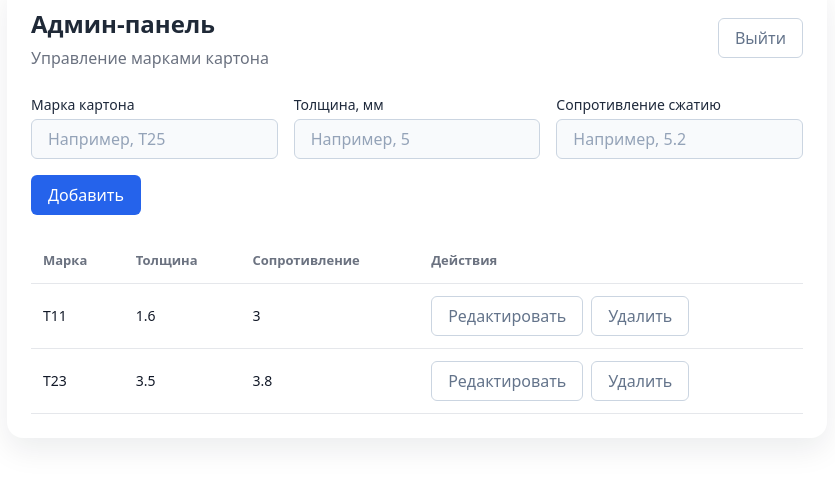
Test case: AdminPanel › показывает ошибку если название пустое
The image size is (835, 502).
Type "5" into the number field with test id "input-field" showing "Толщина, мм" at (417, 139), box [294,119,540,159]
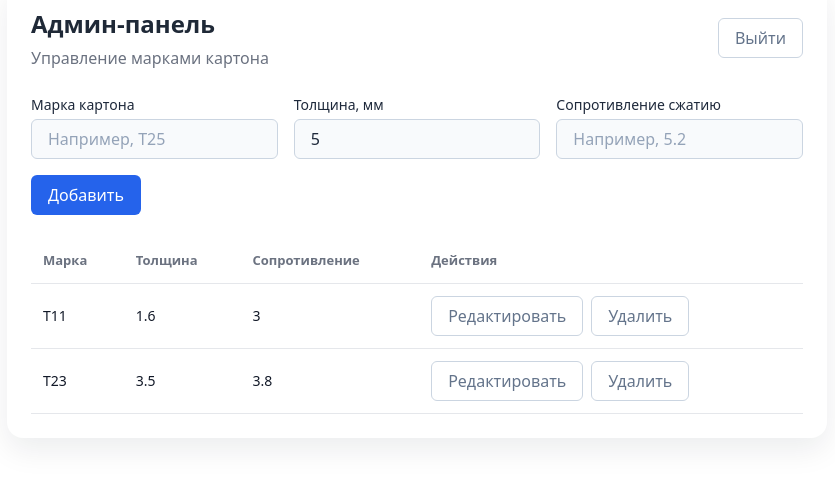
Type "5.2" into the number field with test id "input-field" showing "Сопротивление сжатию" at (680, 139), box [556,119,803,159]
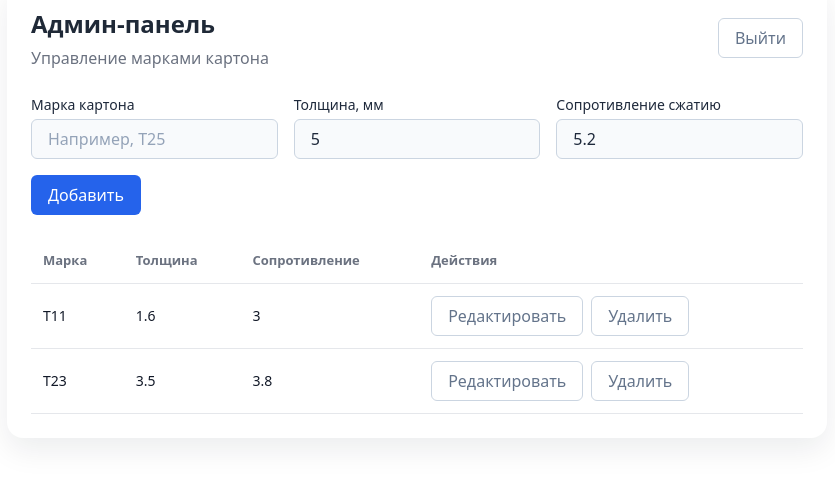
Submit the form, box [31,94,803,215]
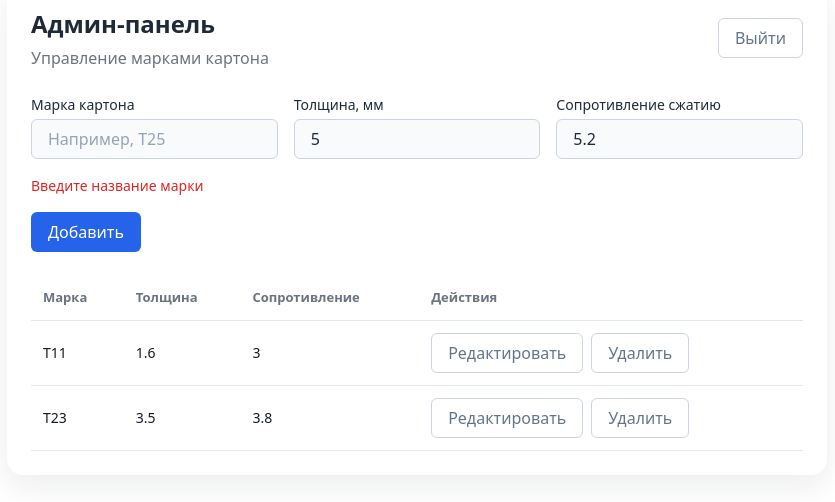
Expected: the text "Введите название марки" is shown, [31,176,204,195]
